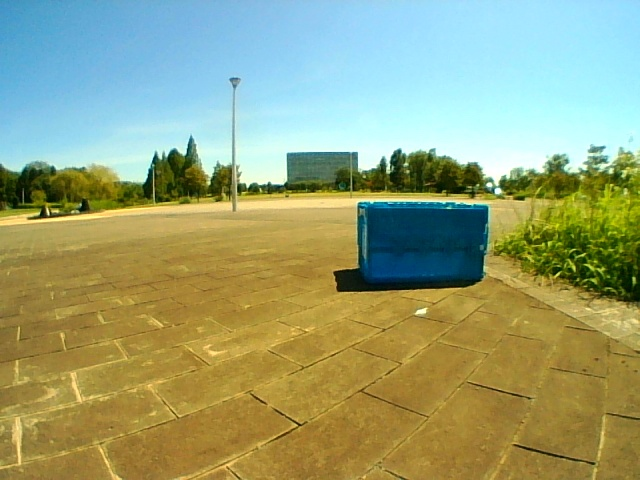blue_box: (358, 203, 486, 278)
